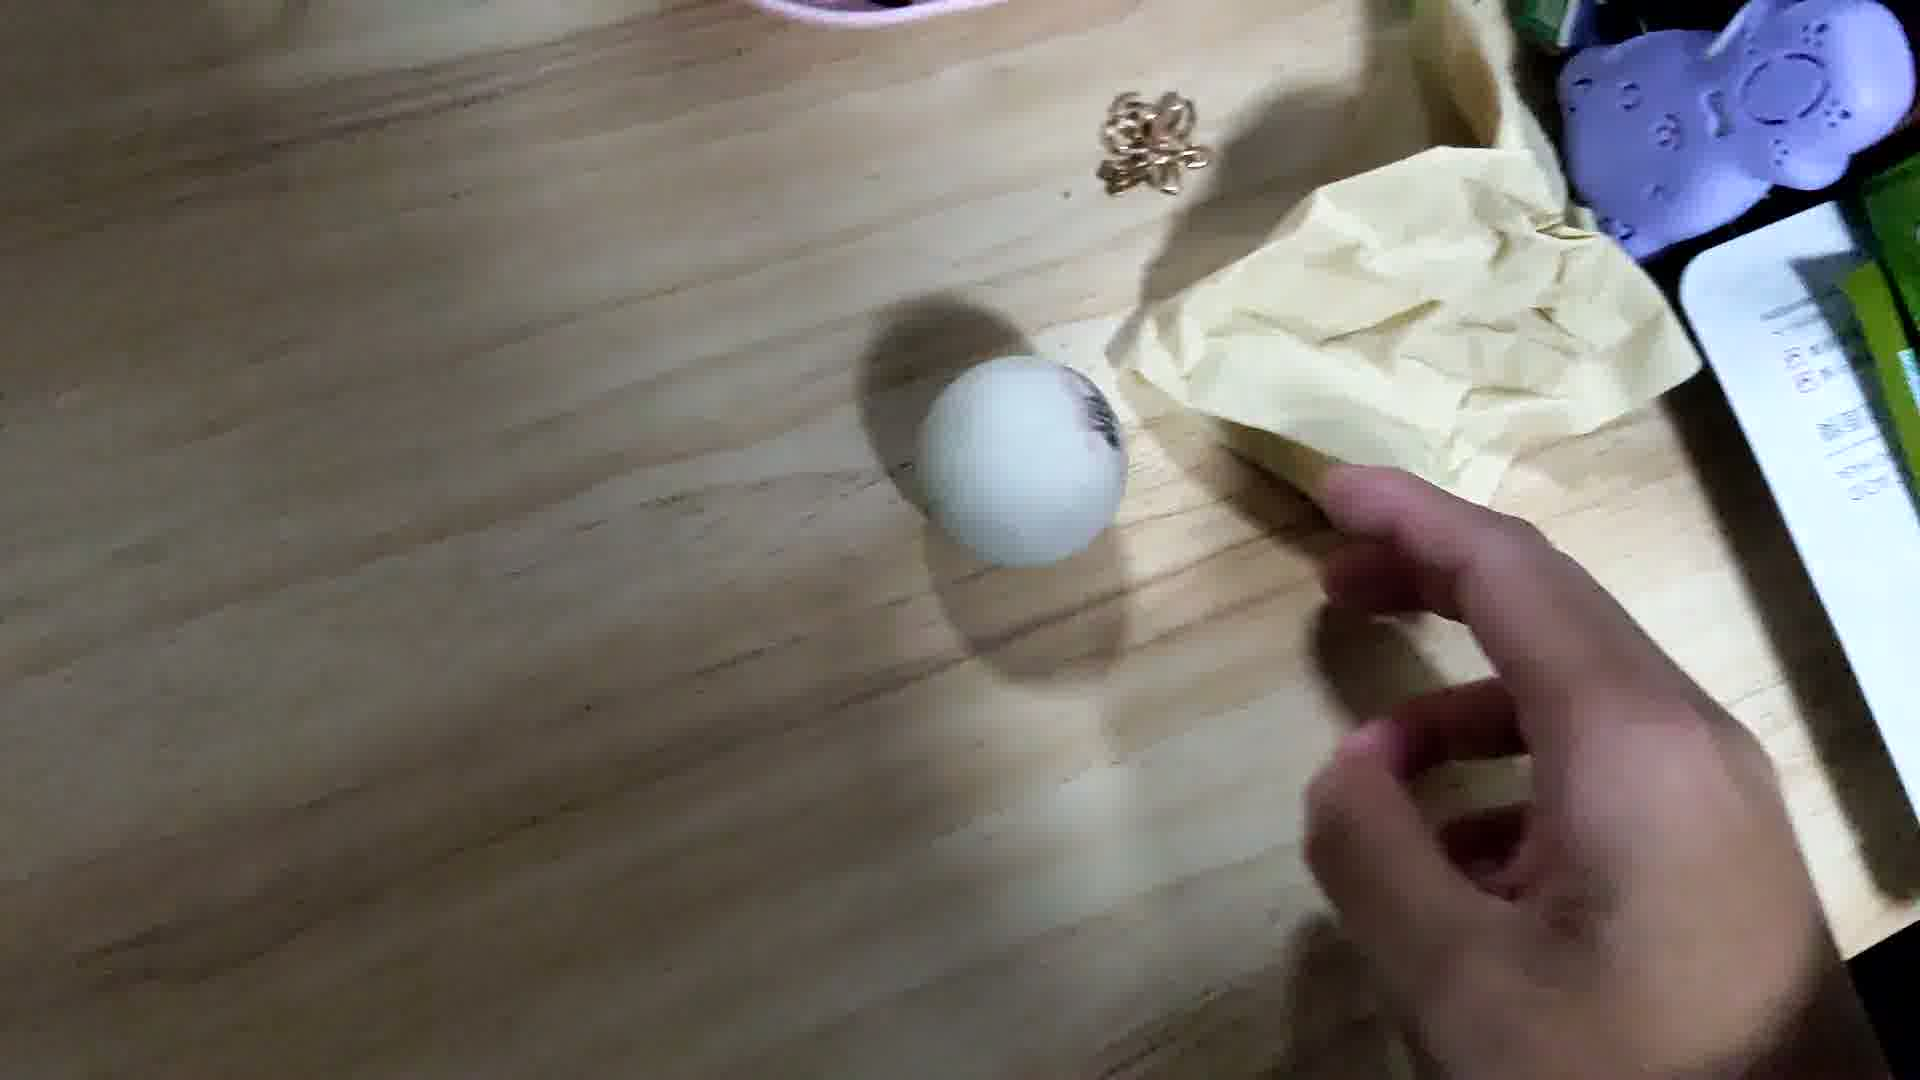Ball: (920, 356, 1135, 568)
